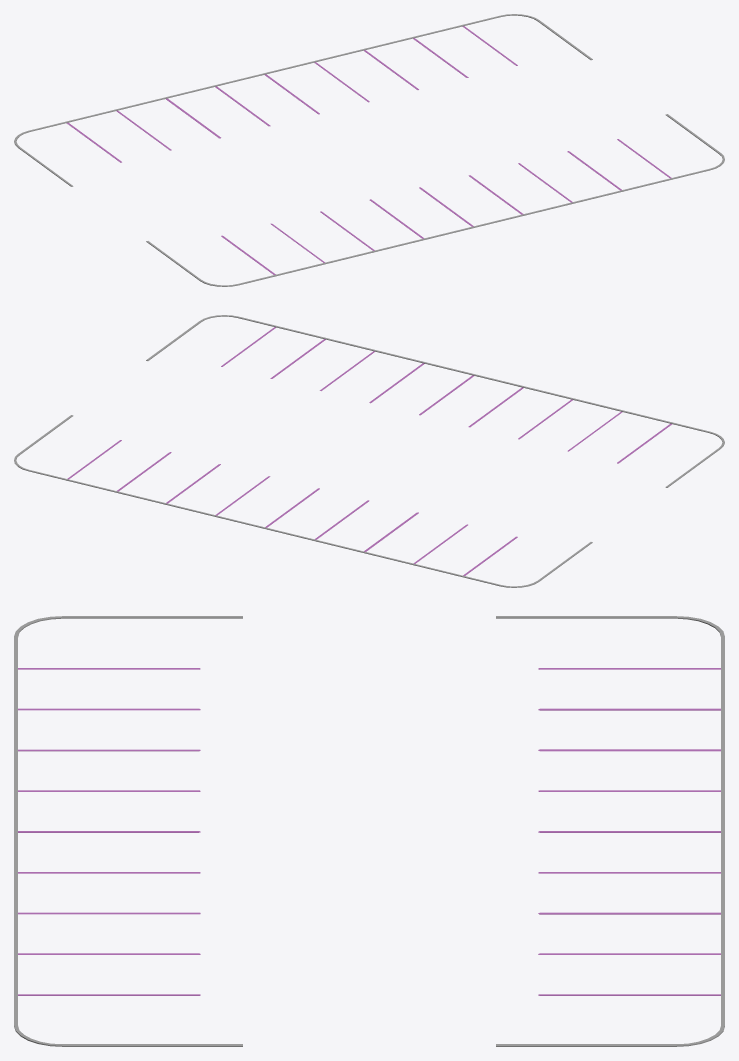
File: parking.fbx
3 renders of one model, top to bottom at view 1: azimuth 30°, elevation 25°; view 2: azimuth 150°, elevation 25°; view 3: azimuth 270°, elevation 25°, orthographic. The views are drawn at different scales.
Parts seen in each view (by area): view 1: pCube19; view 2: pCube19; view 3: pCube19.
Part boxes in pixels (bbox=[...]): pCube19: bbox=[14, 14, 724, 286]; pCube19: bbox=[14, 315, 724, 587]; pCube19: bbox=[14, 616, 724, 1046].
Size of the model in its own units: 82.28 by 0.0958 by 57.53.
